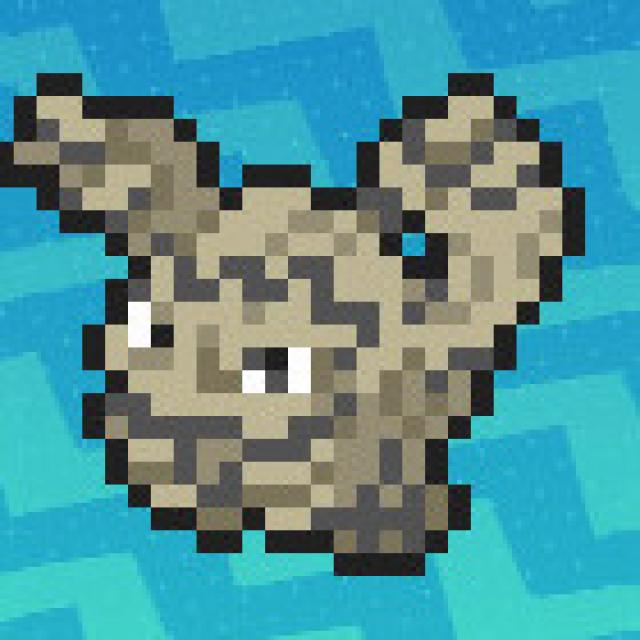Graveler: (8, 55, 589, 588)
